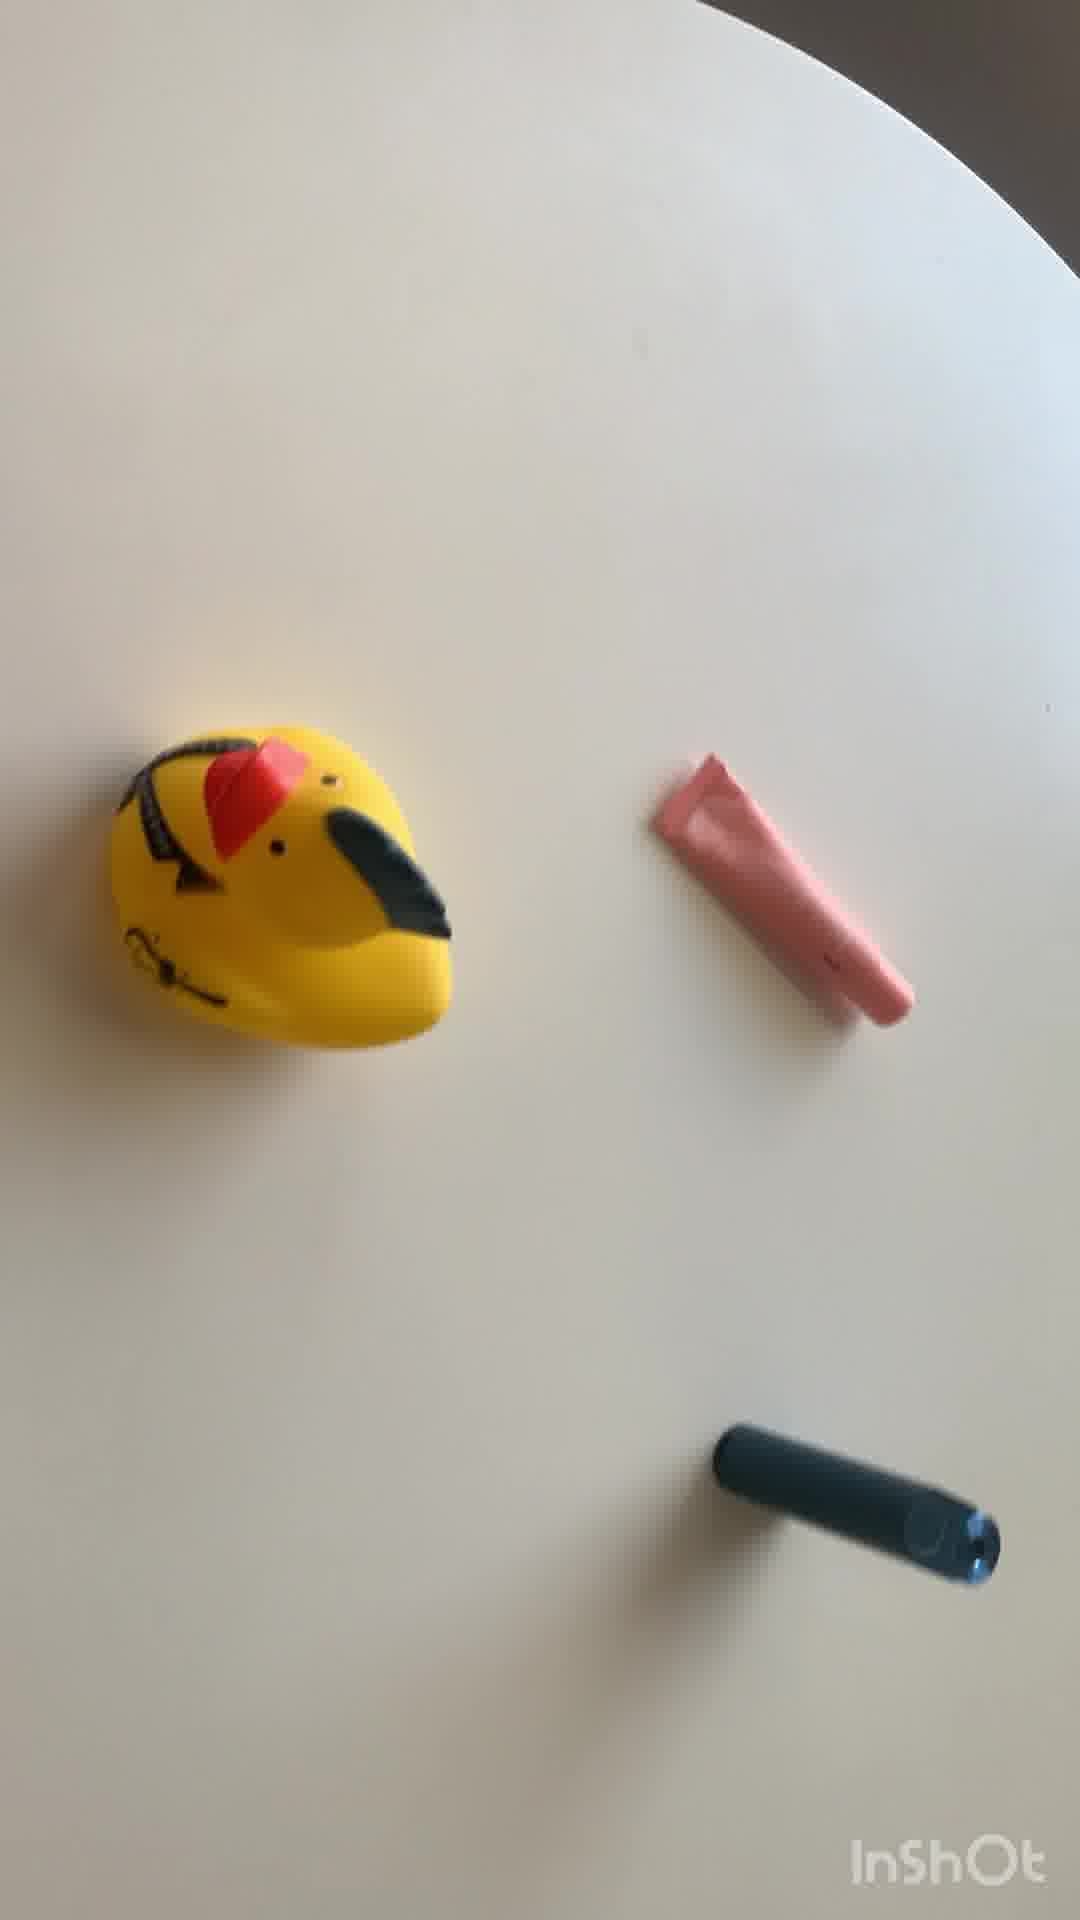duck: (103, 713, 456, 1054)
glo: (709, 1431, 1007, 1586)
lip balm: (646, 752, 915, 1036)
